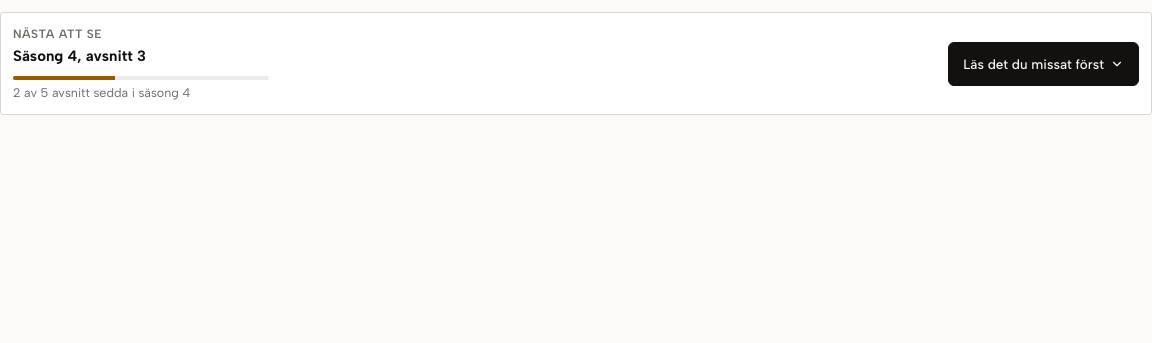
Scenario: RecapPanel timeline › hides seasons with no summary — a partially-seeded show shows no dead-end nodes
Click the button "Läs det du missat först" at (1044, 64), box x1=948 y1=42 x2=1139 y2=86
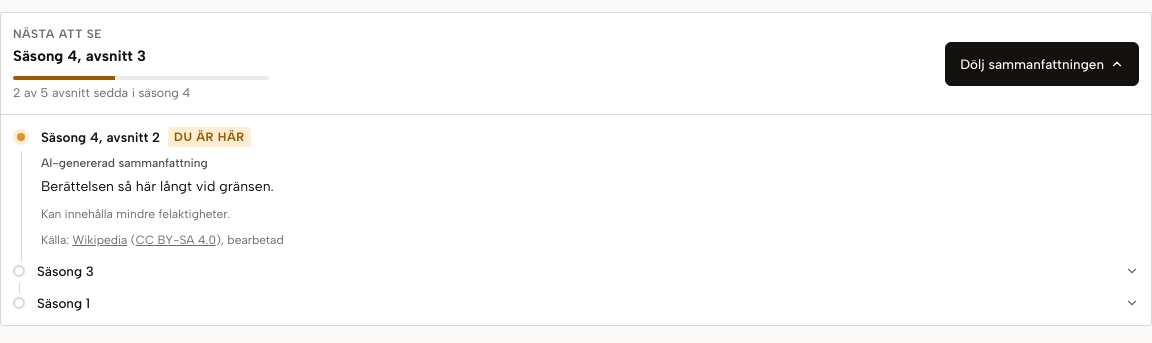
Now the button "Säsong 1" is shown, box x1=37 y1=293 x2=1139 y2=313
Now the button "Säsong 3" is shown, box x1=37 y1=260 x2=1139 y2=281
